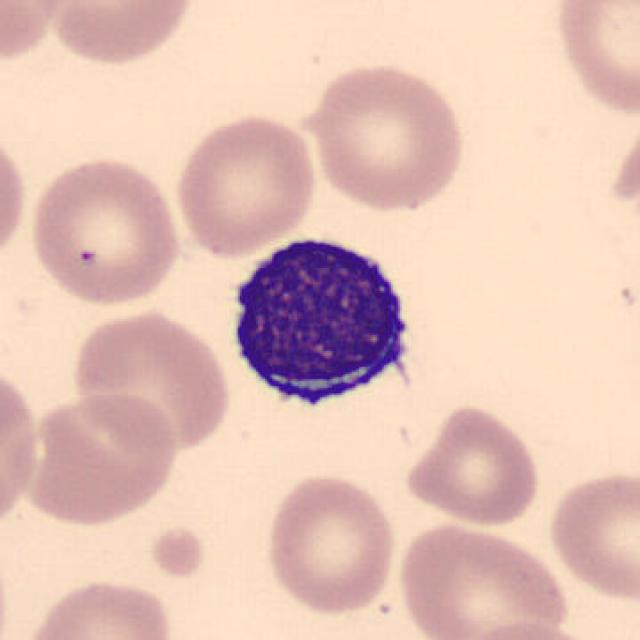Basophil: (217, 223, 430, 422)
Lymphocyte: (219, 222, 430, 423)
RBC: (299, 60, 471, 213), (23, 150, 185, 308), (68, 305, 234, 455), (20, 388, 182, 529), (171, 109, 320, 259), (394, 518, 572, 640), (261, 469, 400, 617), (400, 400, 544, 529), (544, 466, 638, 606), (547, 0, 640, 121), (45, 0, 199, 67), (21, 575, 178, 640), (0, 360, 43, 538), (0, 0, 76, 67), (0, 124, 30, 272), (460, 617, 604, 640)
